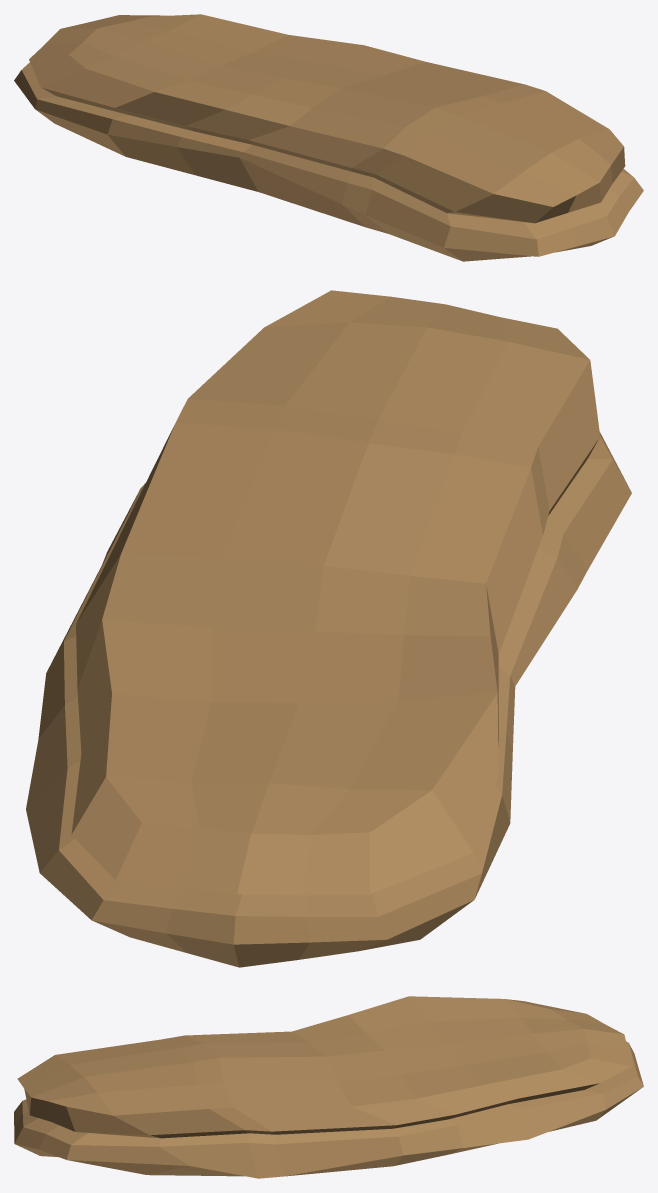
Rendered from Mountain_rock.fbx.
The picture shows the model from 3 angles, top to bottom: view 1: azimuth 30°, elevation 25°; view 2: azimuth 150°, elevation 25°; view 3: azimuth 270°, elevation 25°; orthographic projection. The views are drawn at different scales.
Parts seen in each view (by area): view 1: pCube2; view 2: pCube2; view 3: pCube2.
Boxes of the visible parts, left/top/right/bottom form: pCube2: left=14, top=14, right=643, bottom=261; pCube2: left=26, top=290, right=631, bottom=967; pCube2: left=14, top=996, right=643, bottom=1178.
Bounding box in the file's own units: 5.71 × 1.72 × 9.61.
